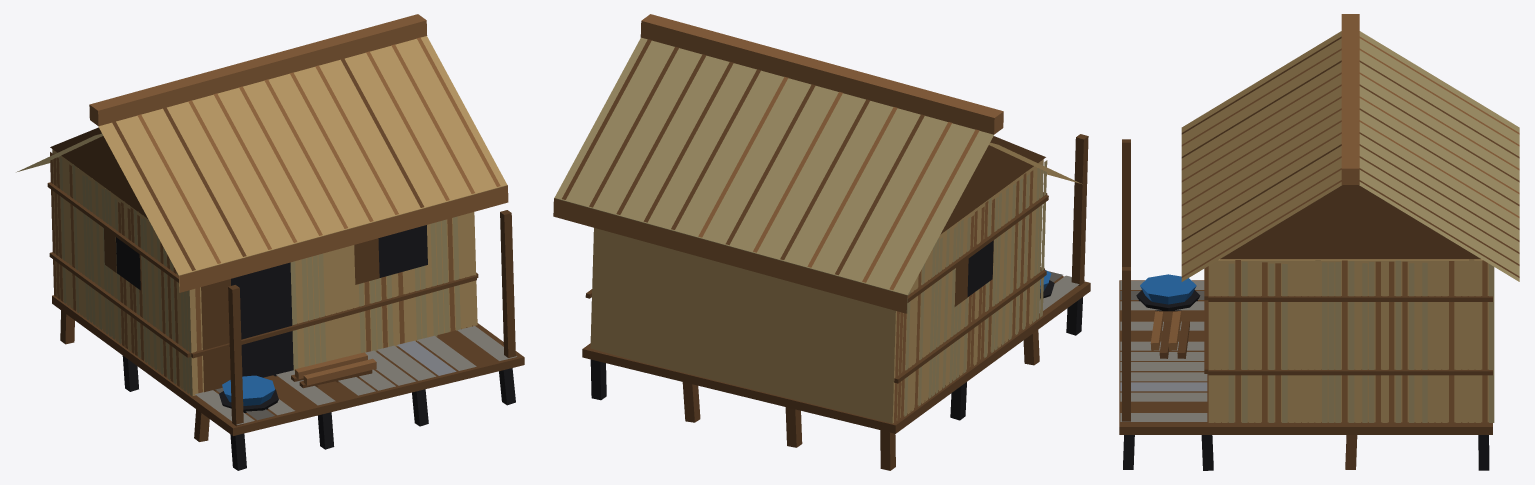
File: building_makoko-house_c.a38b529bbcff.glb
3 views of the same model, side by side, from view 1: azimuth 30°, elevation 25°; view 2: azimuth 150°, elevation 25°; view 3: azimuth 270°, elevation 25° (orthographic). The views are drawn at different scales.
Parts seen in each view (by area): view 1: body; view 2: body; view 3: body.
Part boxes in pixels (x1=…): body: x1=16, y1=14, x2=524, y2=470; body: x1=553, y1=14, x2=1090, y2=470; body: x1=1119, y1=14, x2=1519, y2=470.
Bounding box in the file's own units: 4.45 × 3.86 × 4.51.
